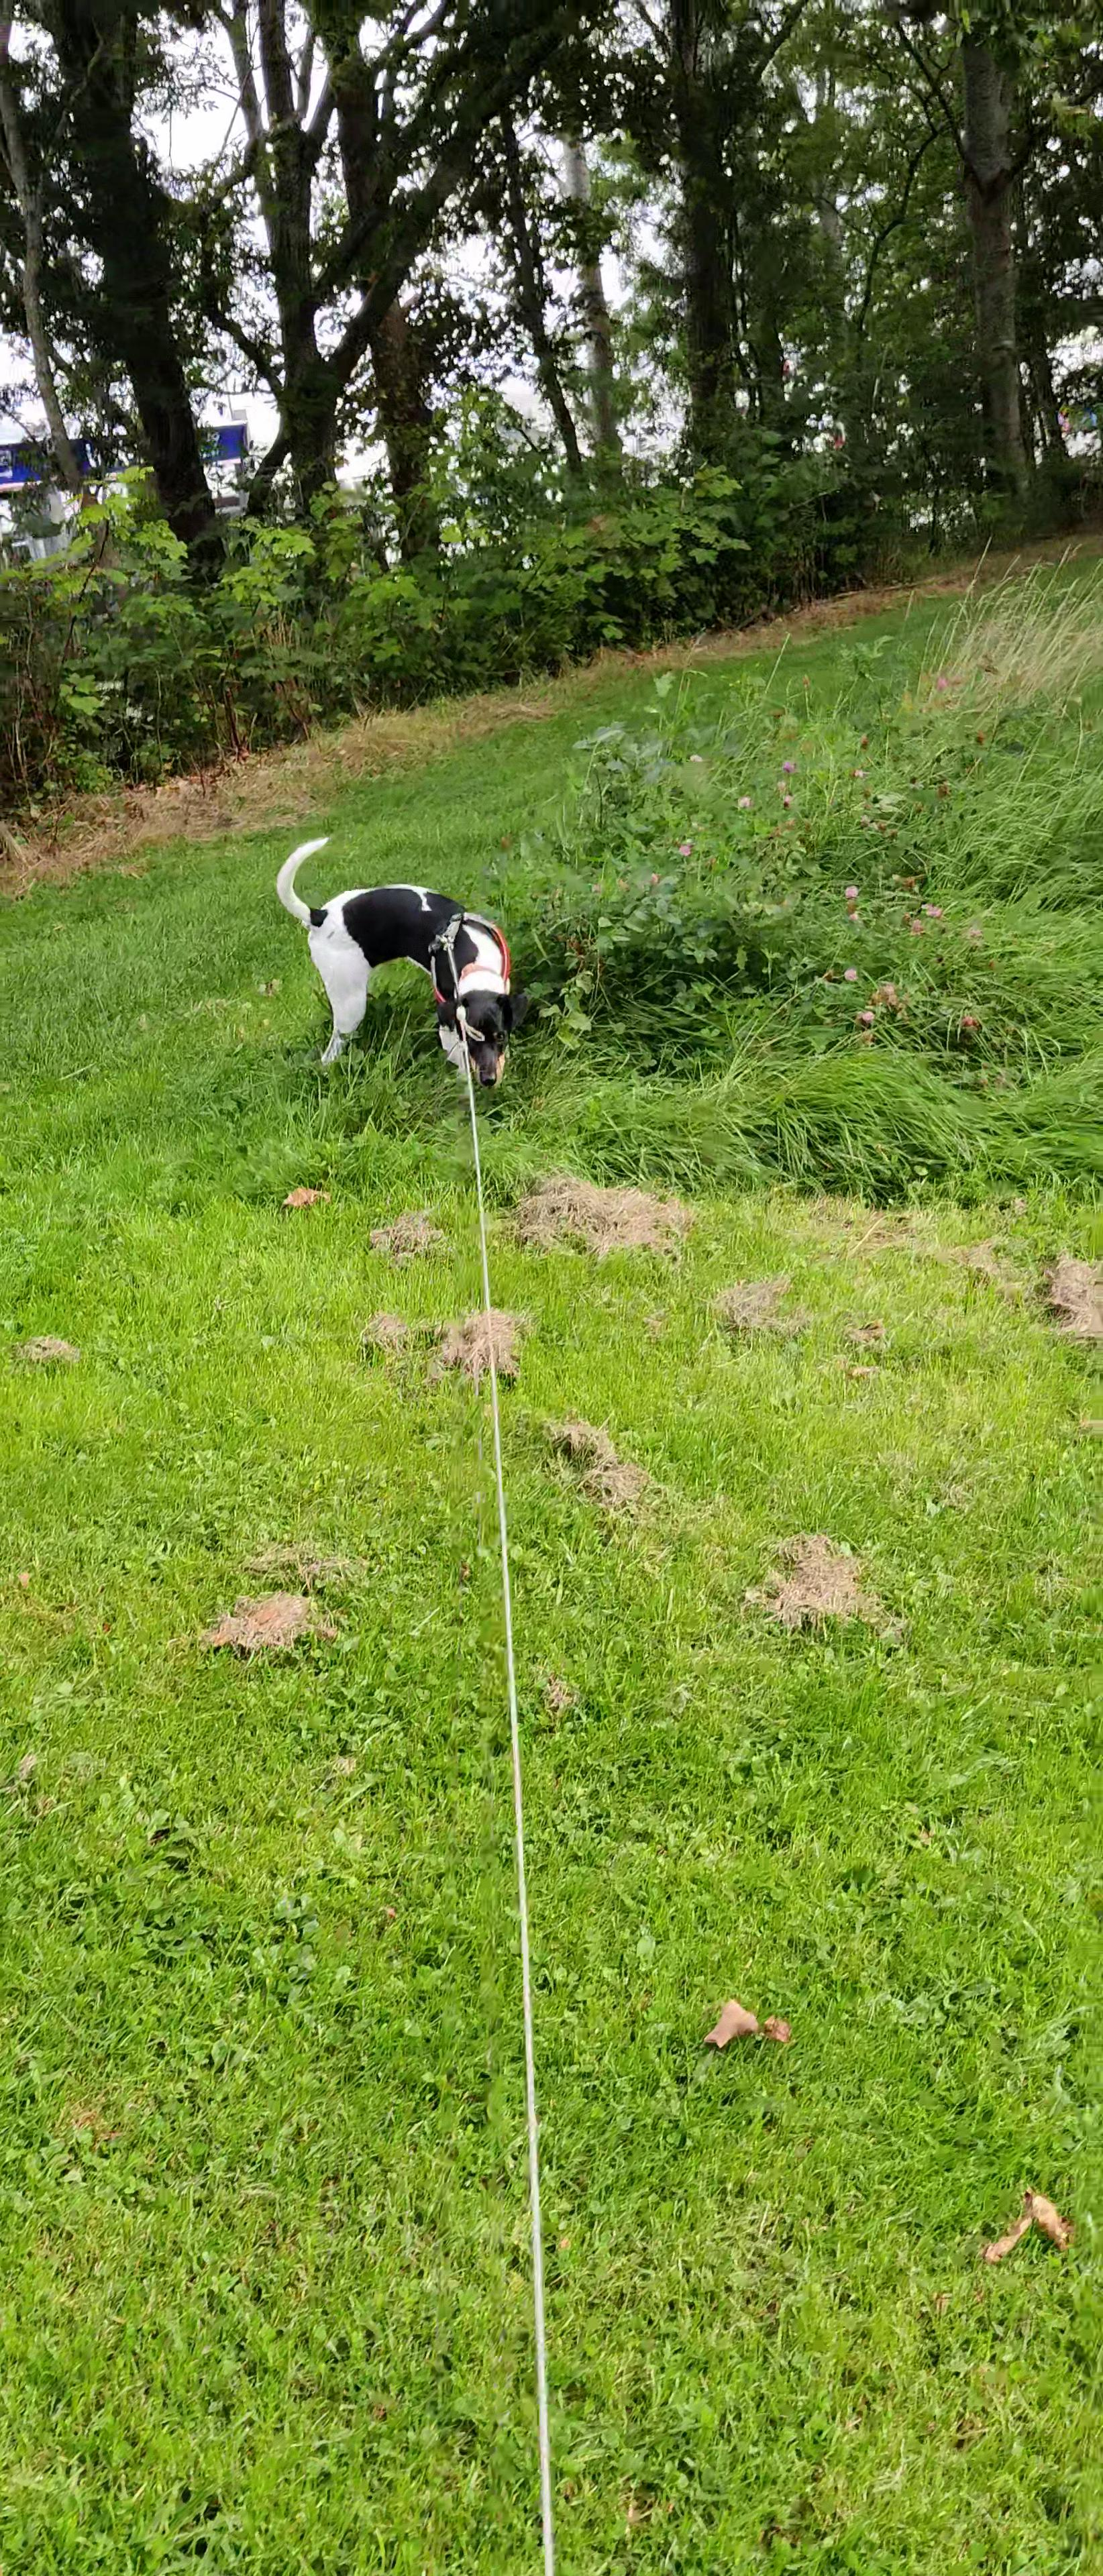Dog: (271, 835, 533, 1092)
